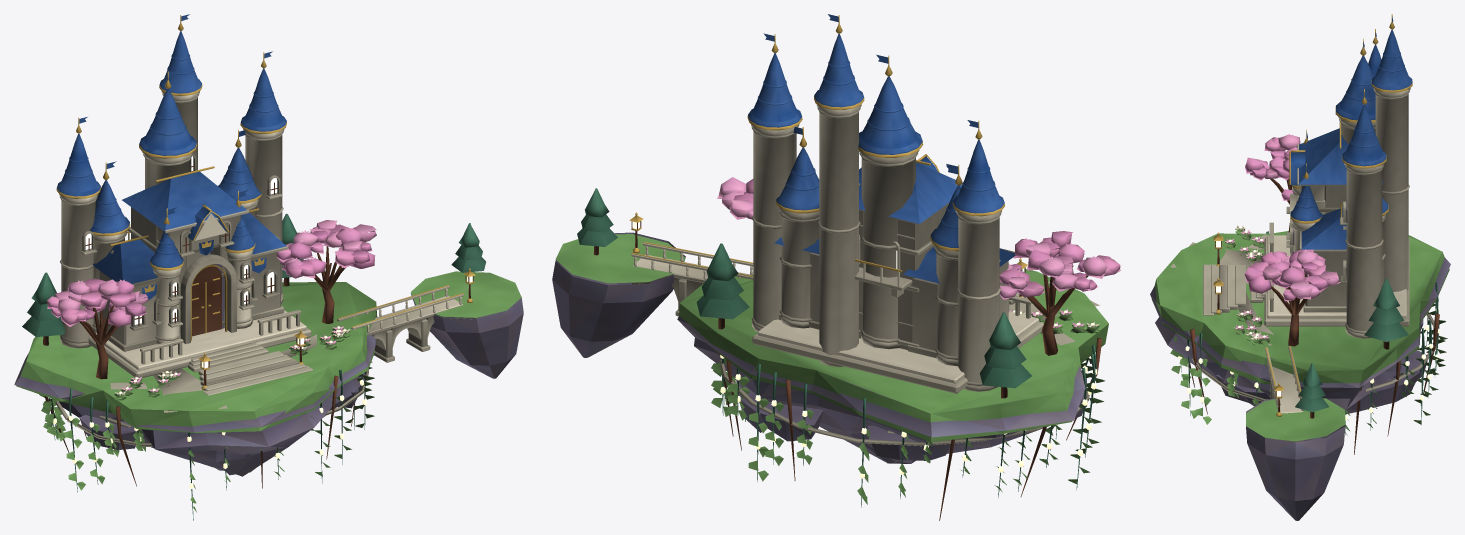
Rendered from royal-island-citadel-v4-balanced.glb.
3 views of the same model, side by side, from view 1: azimuth 30°, elevation 25°; view 2: azimuth 150°, elevation 25°; view 3: azimuth 270°, elevation 25° (orthographic). The views are drawn at different scales.
Visible parts, largest first — view 1: royal-island-citadel-v4; view 2: royal-island-citadel-v4; view 3: royal-island-citadel-v4.
Boxes of the visible parts, bbox=[...] form: royal-island-citadel-v4: bbox=[14, 14, 523, 520]; royal-island-citadel-v4: bbox=[552, 14, 1120, 520]; royal-island-citadel-v4: bbox=[1150, 14, 1450, 520].
Bounding box in the file's own units: 19.17 × 16.3 × 10.92.
Materials: 10 (10 with a texture image).
